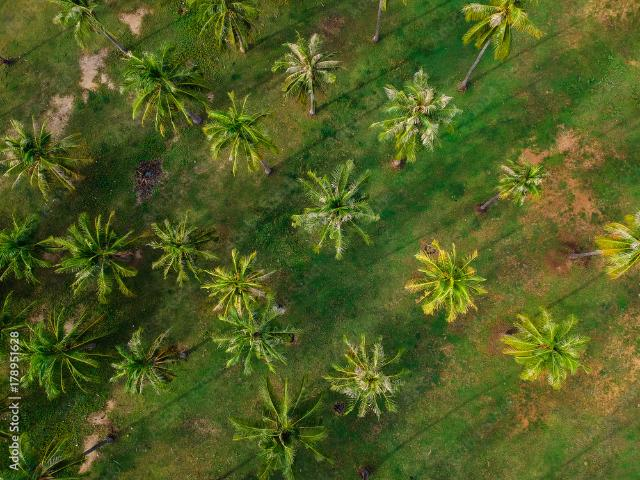trees: (293, 143, 382, 263), (239, 375, 315, 480), (2, 113, 84, 195), (515, 306, 591, 390), (417, 230, 487, 319), (197, 93, 272, 174), (376, 83, 452, 159), (29, 318, 103, 395), (64, 217, 135, 296), (135, 43, 200, 128), (272, 33, 344, 108), (339, 334, 394, 421), (219, 318, 295, 377), (2, 213, 51, 302), (151, 211, 213, 281), (106, 332, 177, 391), (576, 215, 640, 280), (463, 7, 529, 64), (496, 141, 546, 213), (205, 255, 274, 307), (191, 1, 256, 45)
